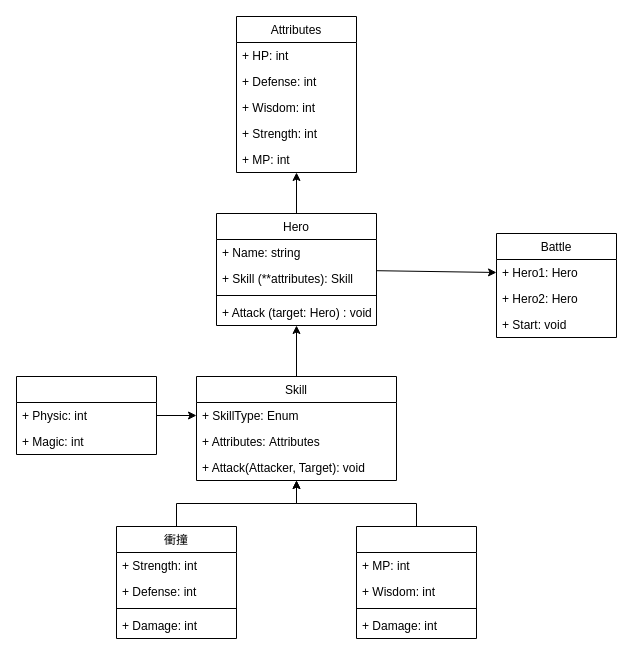
This 633x655 diagram has some shape labels left out. The shapes that lost their labels are listed below. From the top down, each one's box as (x1, y1, x2, y2) in pixels, then its label:
(16, 376, 156, 454): SkillType
(356, 526, 476, 638): 水球
